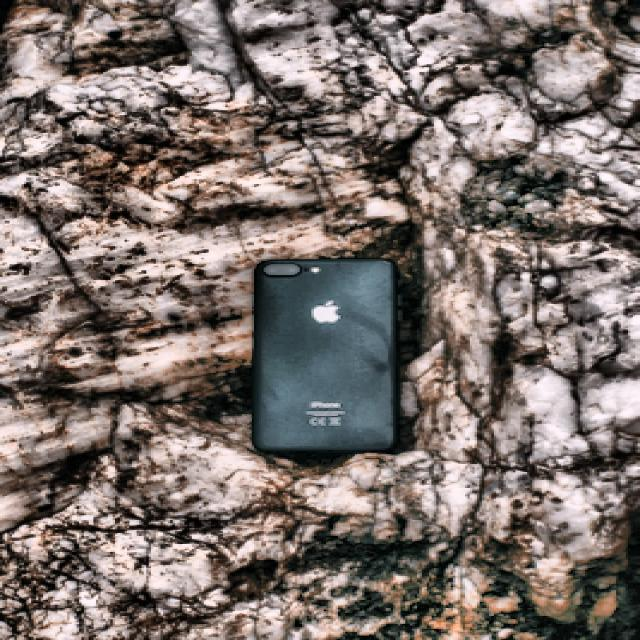Phone: (252, 259, 398, 453)
